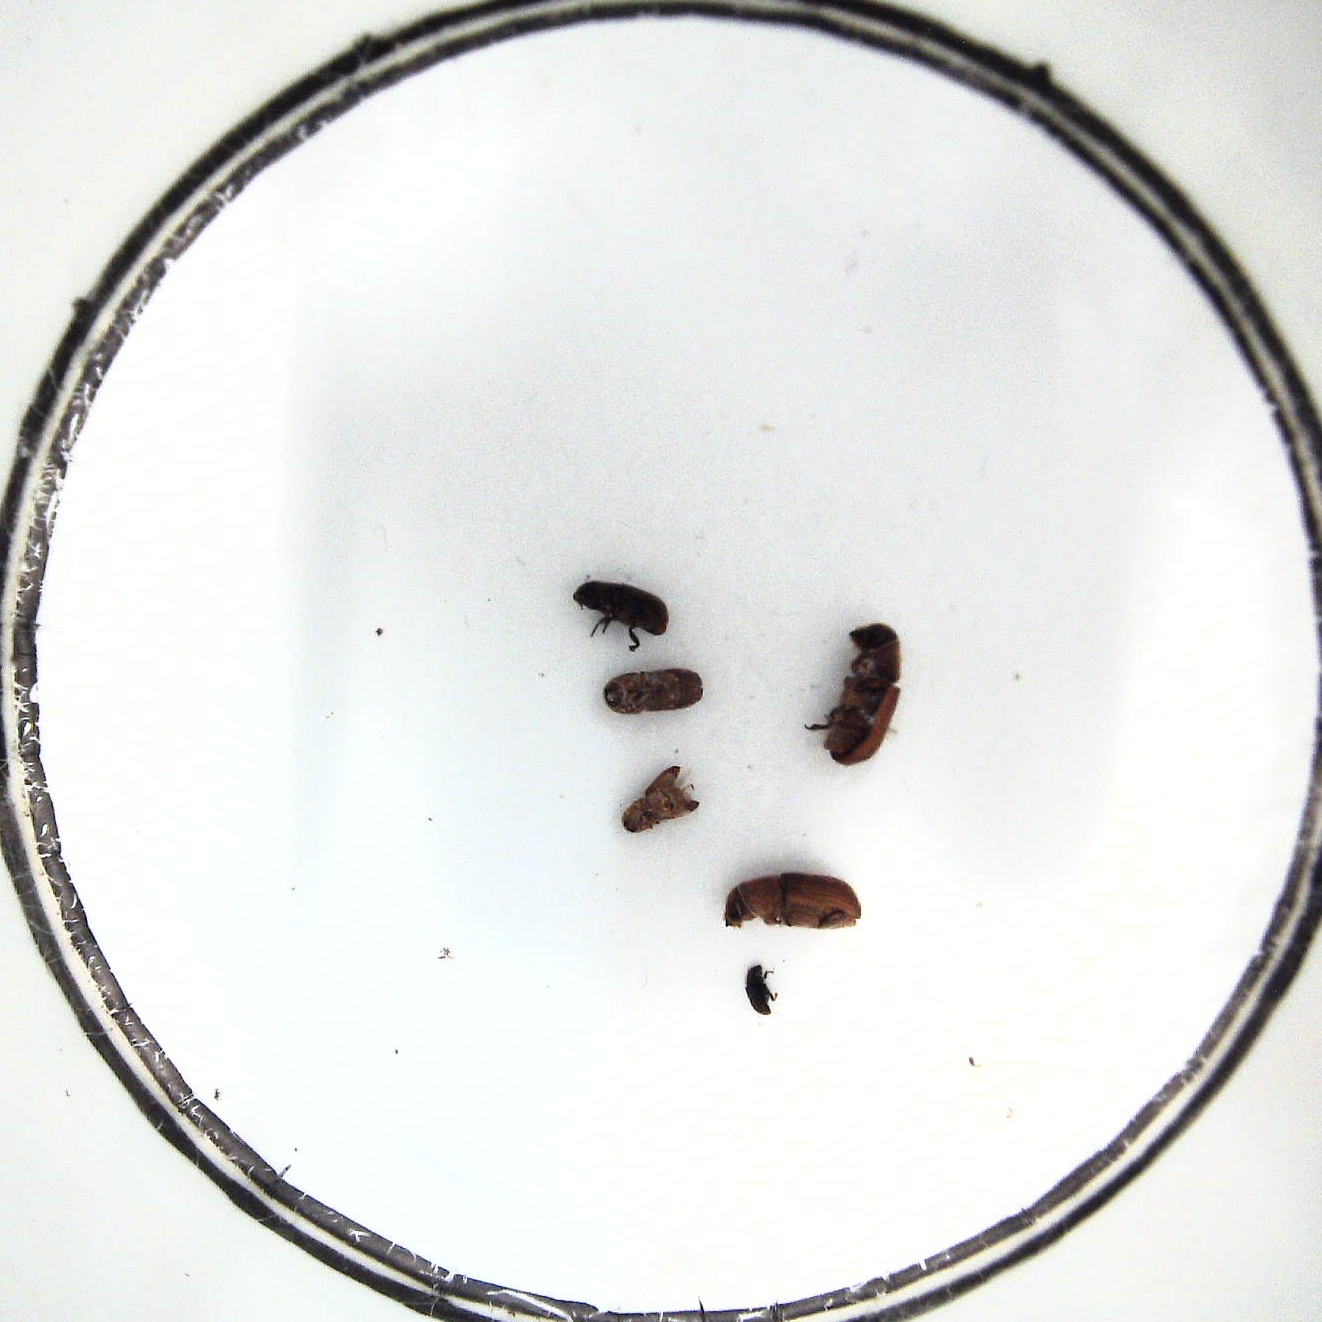Leconte: (810, 623, 908, 764), (718, 873, 864, 933)
Linnaeus: (600, 663, 709, 715)
acuminatus: (621, 768, 702, 840)
armandi: (574, 581, 672, 653)
coleoptera: (745, 955, 778, 1017)
